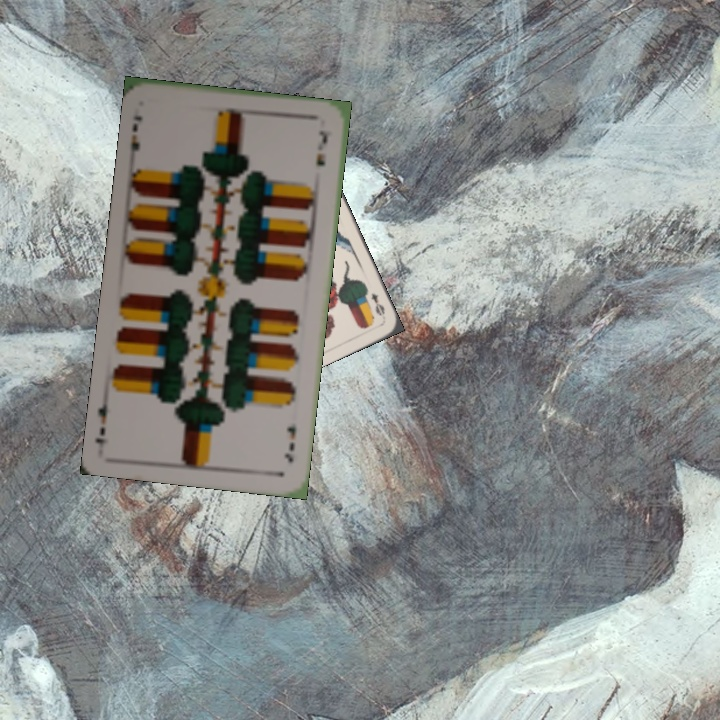E7: (125, 112, 145, 162), (280, 422, 298, 465)
EO: (367, 289, 388, 318)
